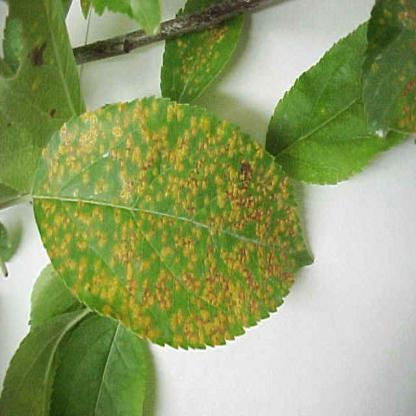apple rust leaf: (25, 101, 318, 350)
